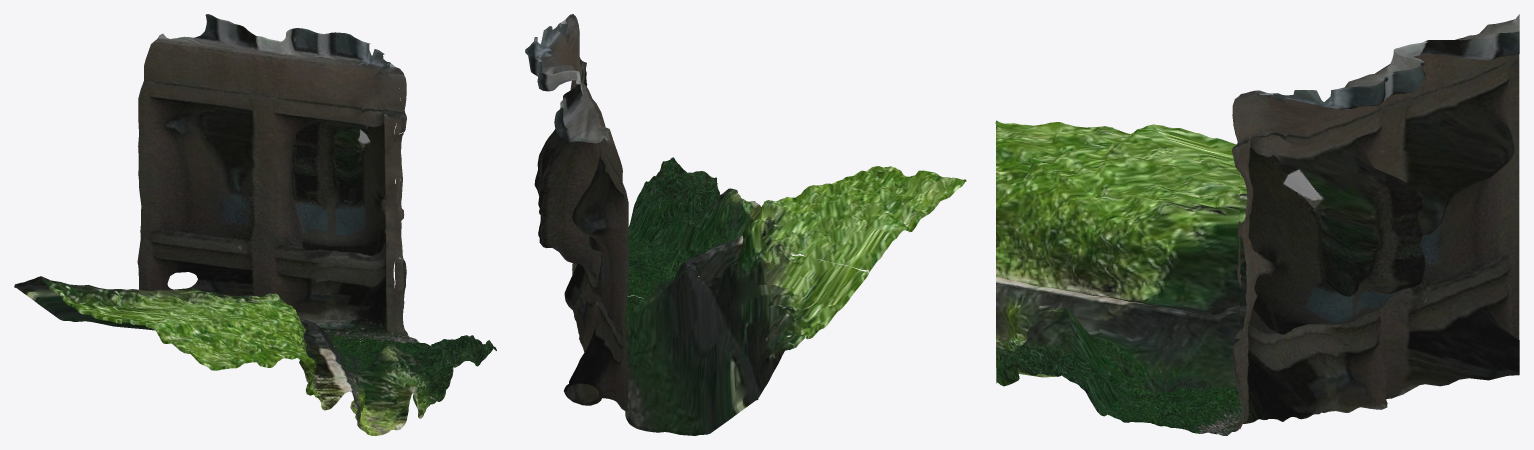
The picture shows the model from 3 angles, left to right: view 1: azimuth 30°, elevation 25°; view 2: azimuth 150°, elevation 25°; view 3: azimuth 270°, elevation 25°; orthographic projection. The views are drawn at different scales.
Visible parts, largest first — view 1: node_209; view 2: node_209; view 3: node_209.
Boxes of the visible parts, left/top/right/bottom form: node_209: left=14, top=14, right=496, bottom=435; node_209: left=525, top=14, right=966, bottom=435; node_209: left=995, top=14, right=1519, bottom=435.
Size of the model in its own units: 9.08 by 8.57 by 10.99.
Materials: 1 (1 with a texture image).
